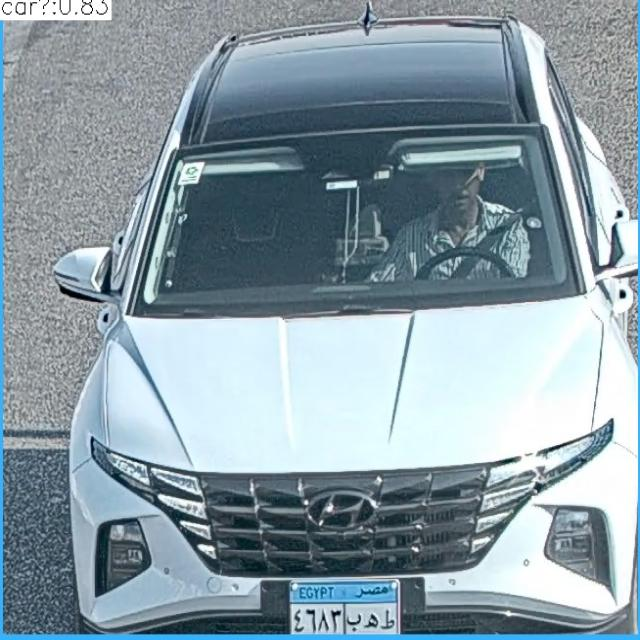windshield: (125, 137, 587, 300)
